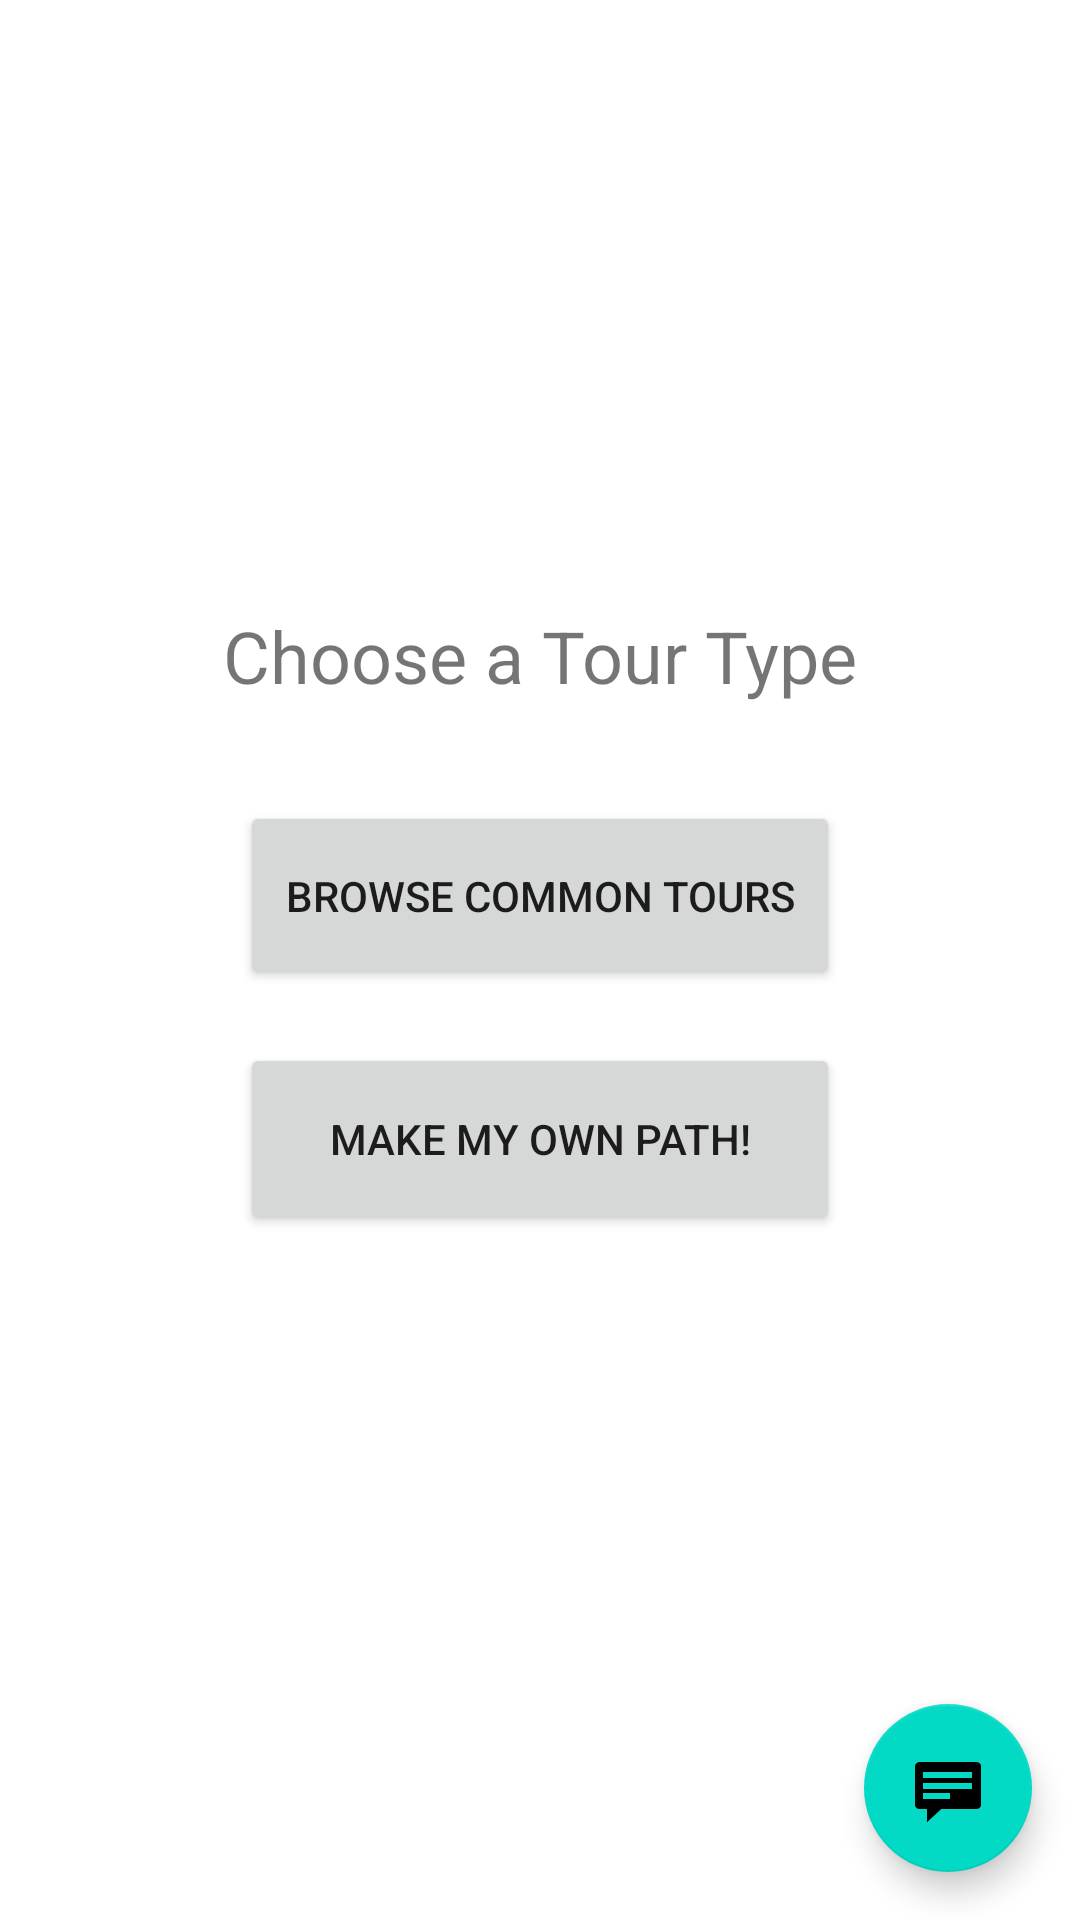

Icons on this 1080 x 1920 Android screen, each with its box as (x1, y1, x2, y2):
chat: (864, 1704, 1032, 1872)
